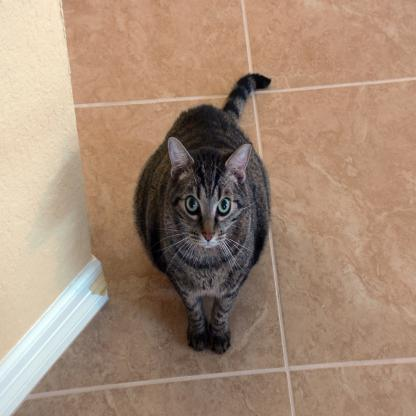cat: (129, 74, 296, 356)
